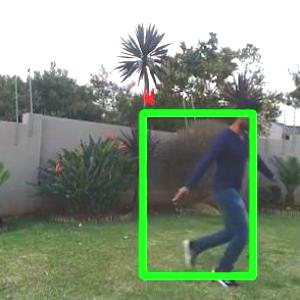land: (171, 102, 286, 290)
